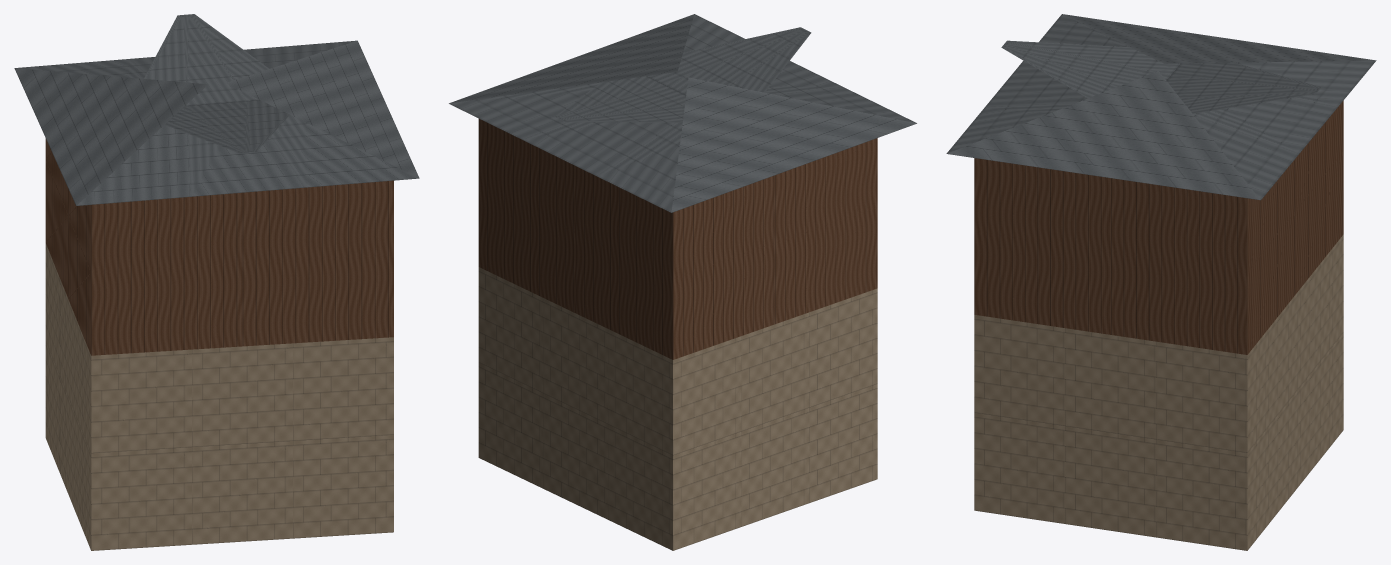
Rendered from bld_c10_17_440.gltf.
3 renders of one model, left to right at view 1: azimuth 30°, elevation 25°; view 2: azimuth 150°, elevation 25°; view 3: azimuth 270°, elevation 25°, orthographic. The views are drawn at different scales.
Visible parts, largest first — view 1: bld_c10_17_440; view 2: bld_c10_17_440; view 3: bld_c10_17_440.
Boxes of the visible parts, bbox=[...] form: bld_c10_17_440: bbox=[14, 14, 419, 550]; bld_c10_17_440: bbox=[449, 14, 916, 550]; bld_c10_17_440: bbox=[946, 14, 1376, 550].
Bounding box in the file's own units: 10.03 × 10.1 × 9.79.
3 materials, 3 textured.
